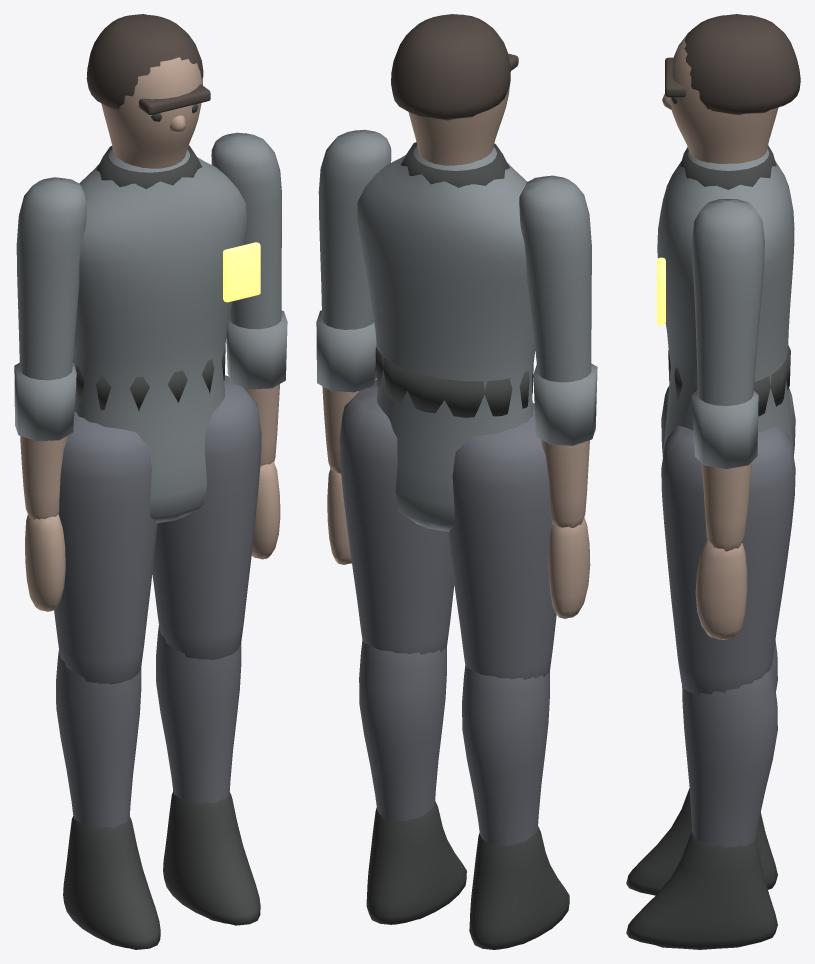
Rendered from resident_v4.glb.
The picture shows the model from 3 angles, left to right: view 1: azimuth 30°, elevation 25°; view 2: azimuth 150°, elevation 25°; view 3: azimuth 270°, elevation 25°; orthographic projection. The views are drawn at different scales.
Parts seen in each view (by area): view 1: Resident_Torso, Resident_Leg_-1, Resident_Leg_1, Resident_Arm_-1, Resident_Shin_1, Resident_Shin_-1, Resident_Boot_1, Resident_Boot_-1, Resident_Arm_1, Resident_Head, Resident_Hair, Resident_Cuff_-1 (+9 smaller); view 2: Resident_Torso, Resident_Leg_-1, Resident_Leg_1, Resident_Shin_1, Resident_Shin_-1, Resident_Arm_-1, Resident_Hair, Resident_Arm_1, Resident_Boot_1, Resident_Boot_-1, Resident_Belt, Resident_Cuff_-1 (+7 smaller); view 3: Resident_Leg_1, Resident_Torso, Resident_Arm_1, Resident_Shin_1, Resident_Boot_1, Resident_Hair, Resident_Head, Resident_Hand_1, Resident_Cuff_1, Resident_Forearm_1, Resident_Boot_-1, Resident_Collar (+4 smaller).
Boxes of the visible parts, x1,y1,x2,y2 form: Resident_Torso: [73, 148, 247, 523]; Resident_Leg_-1: [54, 411, 157, 684]; Resident_Leg_1: [152, 375, 261, 659]; Resident_Arm_-1: [16, 177, 87, 380]; Resident_Shin_1: [156, 626, 241, 803]; Resident_Shin_-1: [56, 650, 141, 828]; Resident_Boot_1: [163, 791, 260, 925]; Resident_Boot_-1: [63, 816, 160, 949]; Resident_Arm_1: [211, 132, 281, 329]; Resident_Head: [101, 57, 202, 168]; Resident_Hair: [86, 14, 203, 109]; Resident_Cuff_-1: [14, 362, 76, 441]; Resident_Torso: [357, 146, 535, 531]; Resident_Leg_-1: [447, 403, 556, 679]; Resident_Leg_1: [339, 380, 454, 654]; Resident_Shin_1: [359, 639, 446, 820]; Resident_Shin_-1: [462, 664, 549, 845]; Resident_Arm_-1: [519, 175, 591, 382]; Resident_Hair: [391, 14, 510, 120]; Resident_Arm_1: [318, 129, 391, 329]; Resident_Boot_1: [366, 801, 466, 924]; Resident_Boot_-1: [469, 826, 569, 949]; Resident_Belt: [375, 347, 533, 417]; Resident_Cuff_-1: [533, 363, 597, 445]; Resident_Leg_1: [661, 425, 795, 695]; Resident_Torso: [657, 148, 794, 452]; Resident_Arm_1: [692, 199, 764, 405]; Resident_Shin_1: [682, 665, 777, 846]; Resident_Boot_1: [626, 832, 777, 949]; Resident_Hair: [684, 14, 800, 114]; Resident_Head: [669, 36, 778, 163]; Resident_Hand_1: [695, 539, 747, 639]; Resident_Cuff_1: [691, 389, 758, 468]; Resident_Forearm_1: [701, 462, 751, 551]; Resident_Boot_-1: [626, 788, 777, 895]; Resident_Collar: [680, 145, 776, 189].
Bounding box in the file's own units: 0.5588 × 1.77 × 0.3131.
